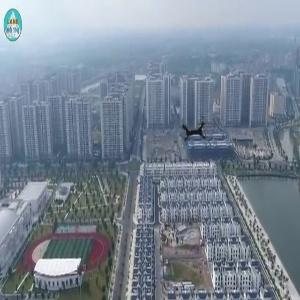drone: (164, 103, 224, 163)
